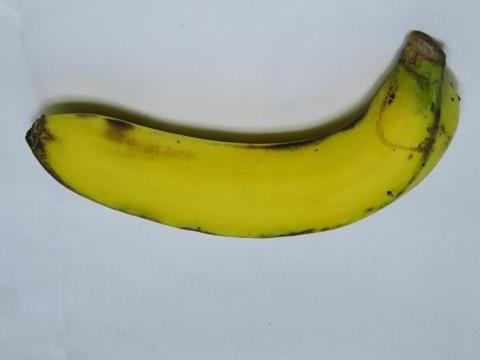freshripe: (21, 23, 466, 260)
